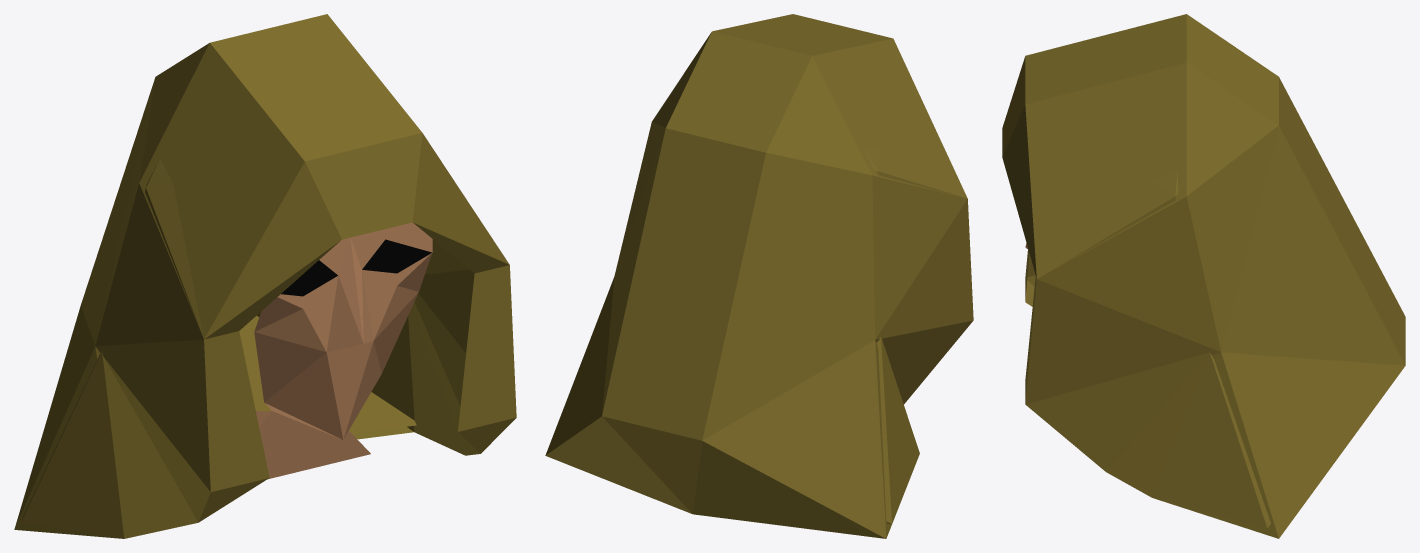
The model's file is model_383_npc.obj.
3 renders of one model, left to right at view 1: azimuth 30°, elevation 25°; view 2: azimuth 150°, elevation 25°; view 3: azimuth 270°, elevation 25°, orthographic. The views are drawn at different scales.
Visible parts, largest first — view 1: 383; view 2: 383; view 3: 383.
Boxes of the visible parts, x1,y1,x2,y2 form: 383: (14,14,516,538); 383: (545,14,973,538); 383: (1002,14,1405,538).
Size of the model in its own units: 34 by 40 by 35.
